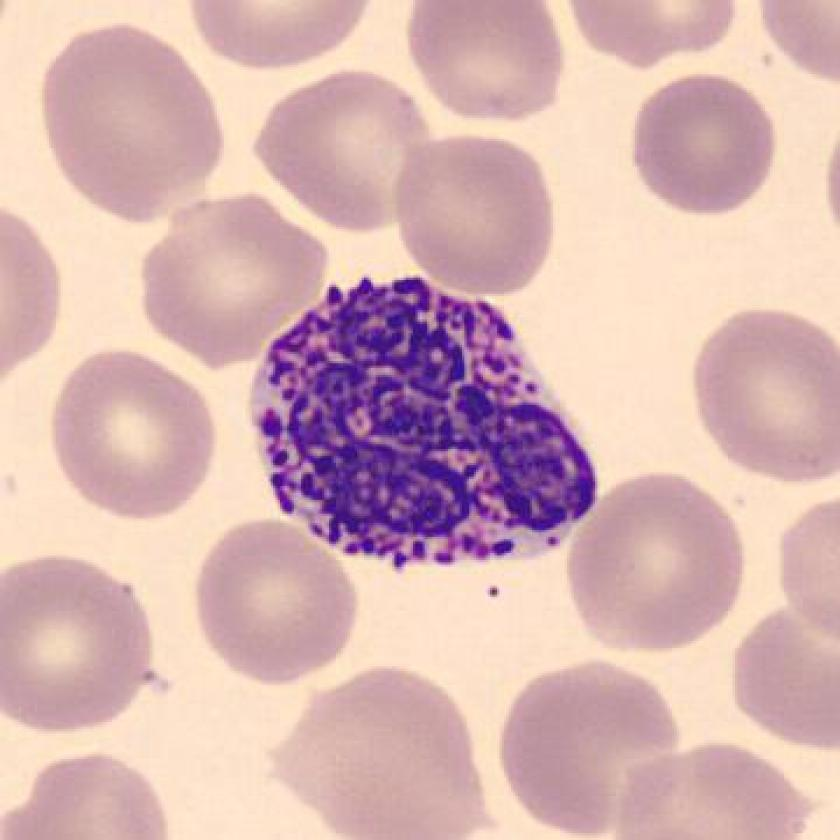basophil: (241, 270, 617, 584)
